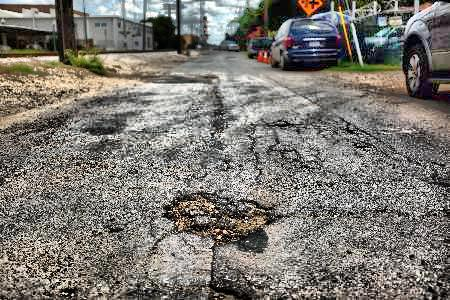pothole: (162, 191, 279, 243)
